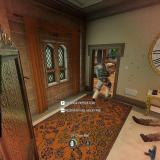Character: (131, 115, 160, 143), (92, 63, 112, 102)
Head: (100, 62, 106, 68)
